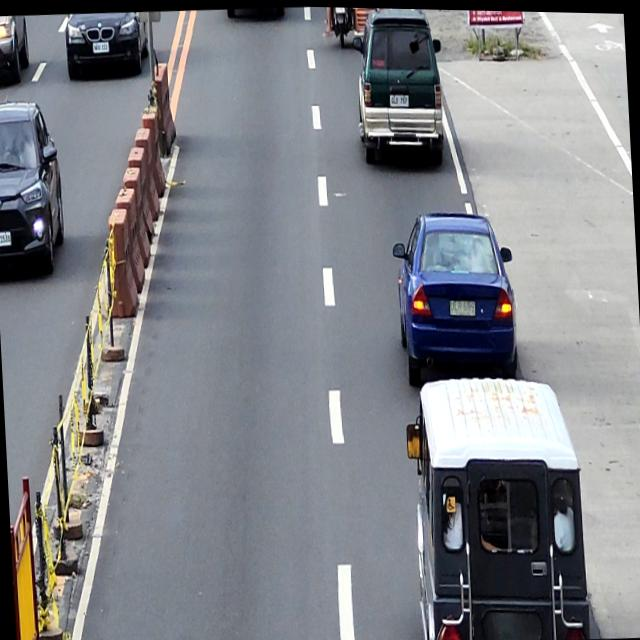Car: (390, 205, 520, 387), (350, 6, 447, 165), (0, 96, 66, 276), (64, 10, 150, 82), (0, 15, 31, 87)
Jeep: (403, 367, 594, 640)
License-Plate: (448, 296, 476, 315), (390, 92, 410, 107), (92, 40, 110, 53), (0, 230, 12, 247), (335, 6, 345, 12)
Tricycle: (328, 6, 394, 49)
